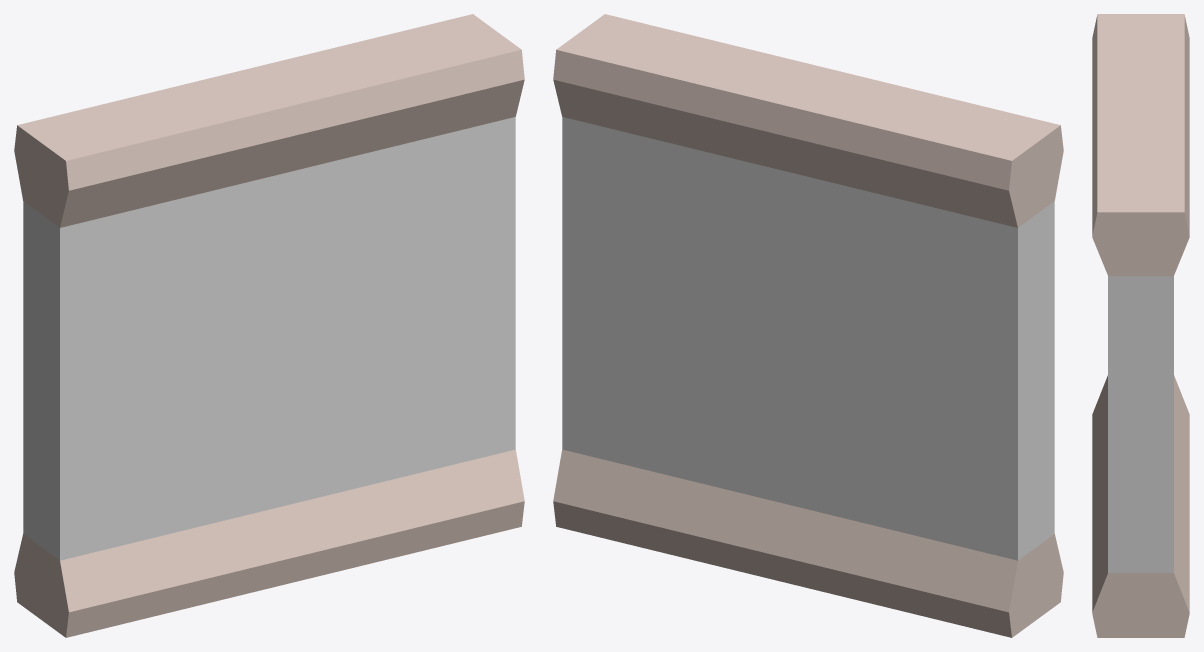
File: wall1.fbx
The picture shows the model from 3 angles, left to right: view 1: azimuth 30°, elevation 25°; view 2: azimuth 150°, elevation 25°; view 3: azimuth 270°, elevation 25°; orthographic projection. The views are drawn at different scales.
Parts seen in each view (by area): view 1: Cube; view 2: Cube; view 3: Cube.
Boxes of the visible parts, x1,y1,x2,y2 form: Cube: [14, 14, 524, 637]; Cube: [553, 14, 1063, 637]; Cube: [1092, 14, 1189, 637].
Bounding box in the file's own units: 200 × 200 × 41.59.
